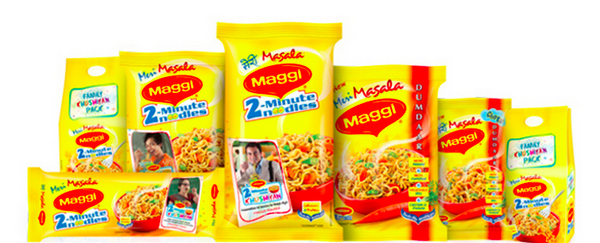maggi: (216, 22, 342, 240), (331, 66, 441, 243), (119, 53, 222, 170), (439, 99, 511, 240), (508, 112, 573, 243)
